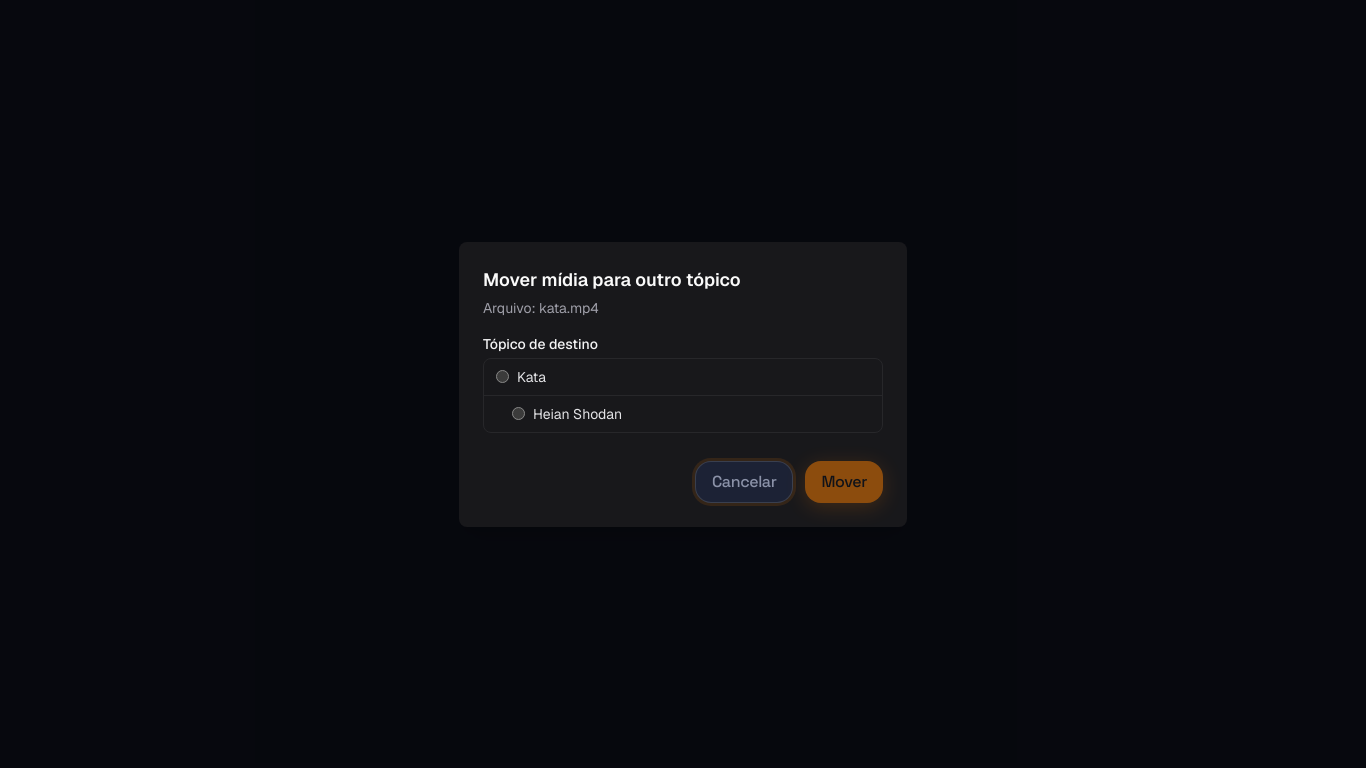
Scenario: MoveMediaDialog › on a 404 for the target drops it from the picker and asks for another one
The width and height of the screenshot is (1366, 768).
Click the radio button labelled "Kata" at (502, 376), box [496,370,509,383]
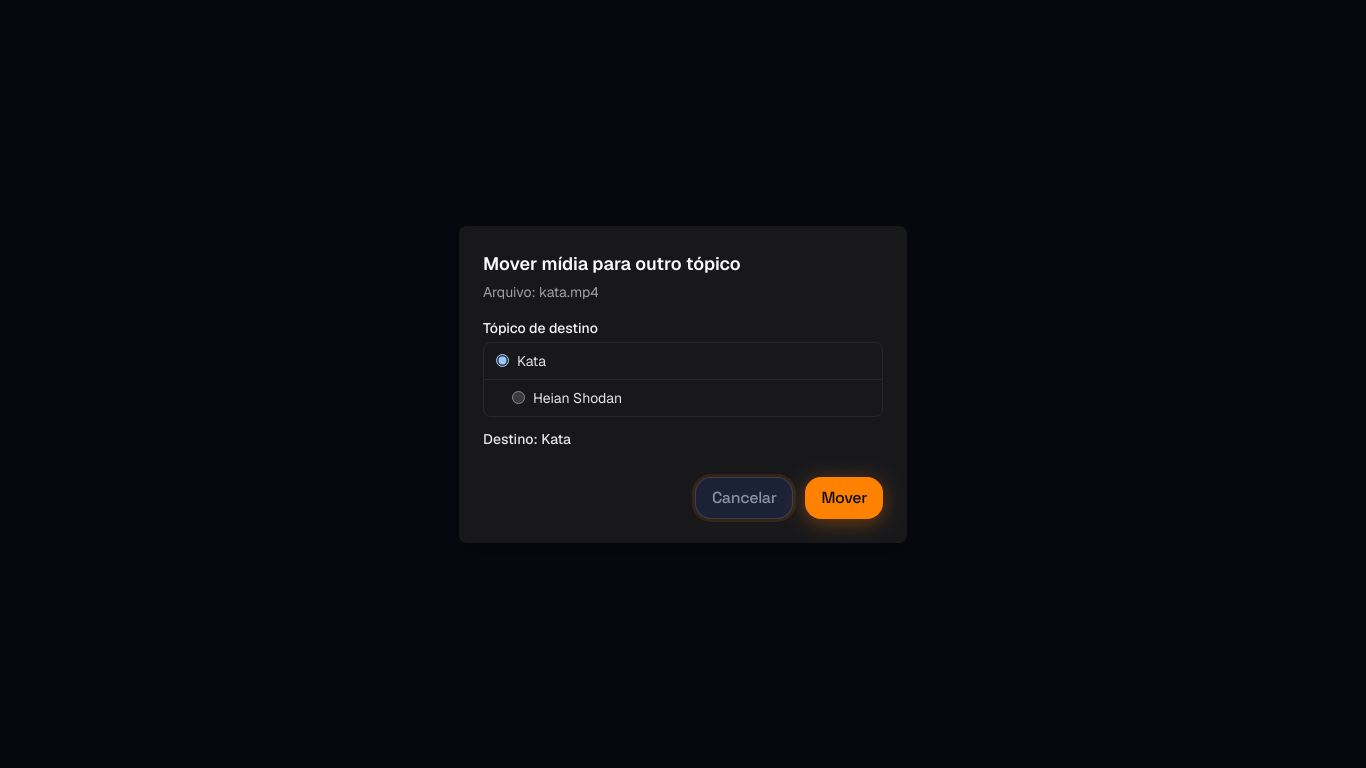
Click the button "Mover" at (844, 498), box [806,476,883,518]
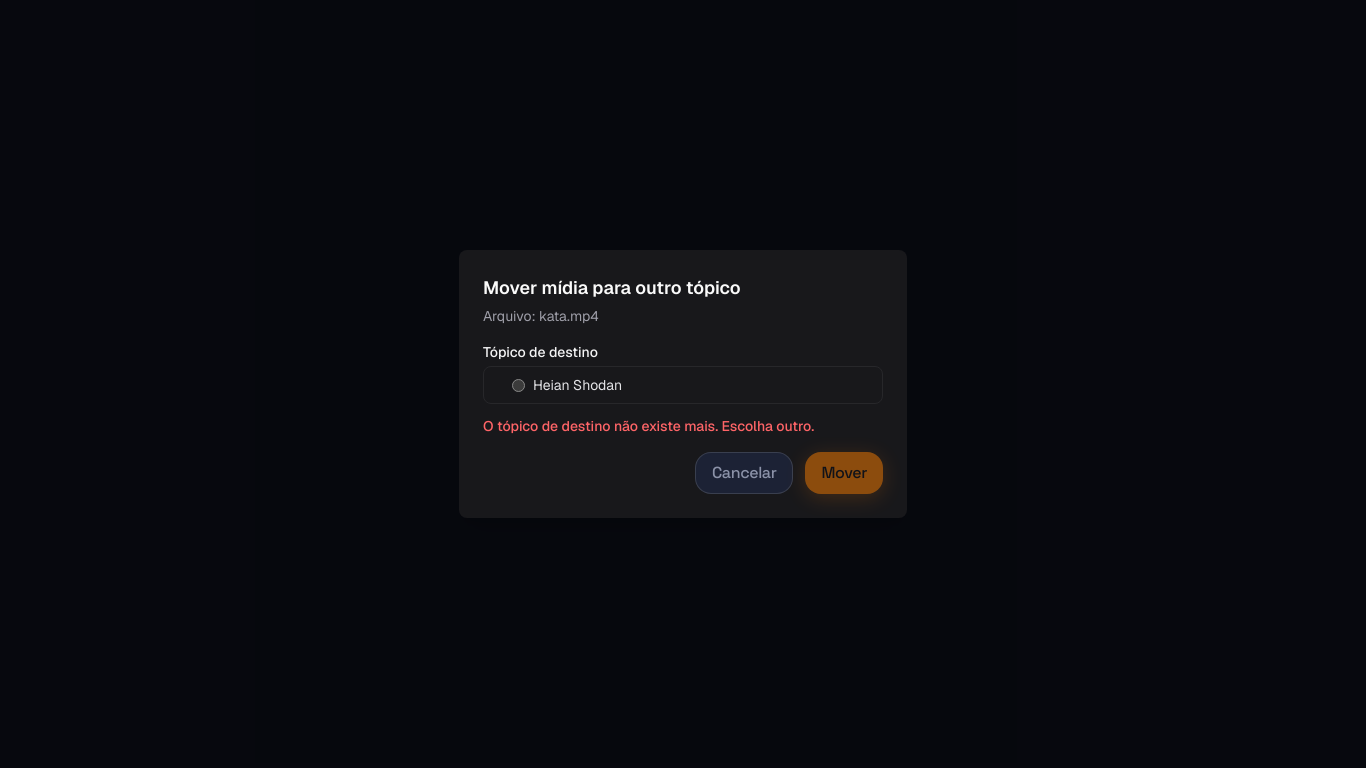
Now the text "O tópico de destino não existe mais. Escolha outro." is shown, box [483,417,814,435]
Now the button "Mover" is disabled, box [806,452,883,494]
